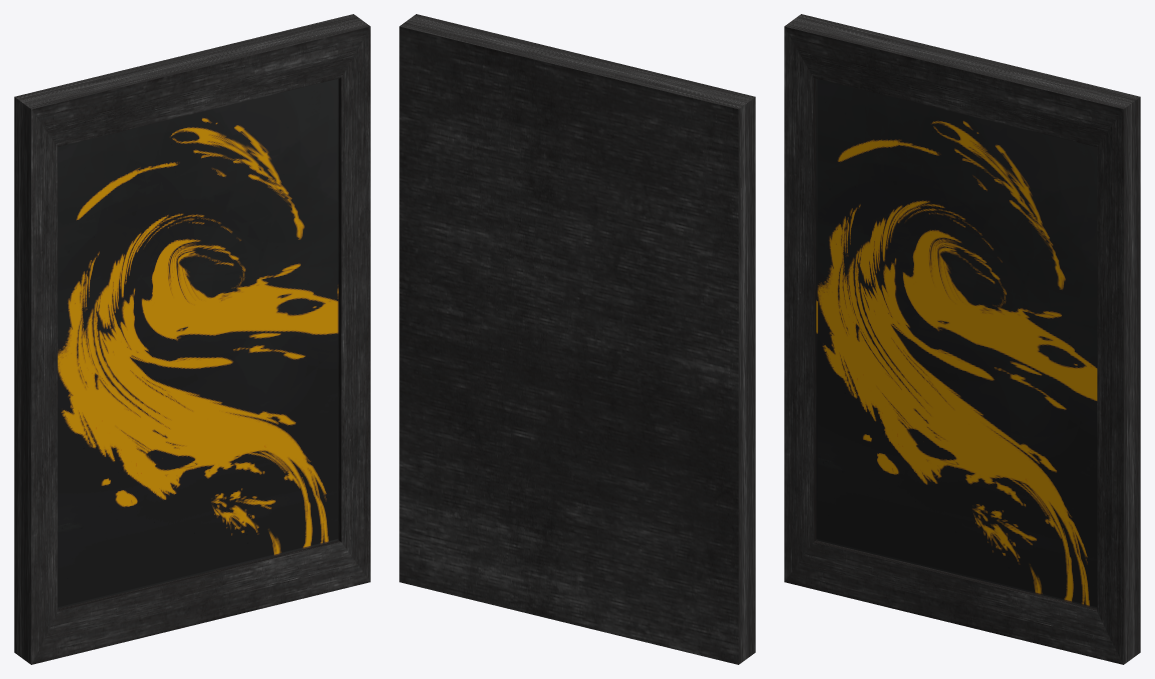
File: painting_portrait_7.fbx
The picture shows the model from 3 angles, left to right: view 1: azimuth 30°, elevation 25°; view 2: azimuth 150°, elevation 25°; view 3: azimuth 330°, elevation 25°; orthographic projection.
Visible parts, largest first — view 1: painting_Var2.002; view 2: painting_Var2.002; view 3: painting_Var2.002.
Boxes of the visible parts, x1,y1,x2,y2 form: painting_Var2.002: (14, 14, 370, 664); painting_Var2.002: (399, 14, 755, 664); painting_Var2.002: (784, 14, 1140, 664).
Size of the model in its own units: 59.07 by 92.39 by 5.15.
Materials: 1 (1 with a texture image).
